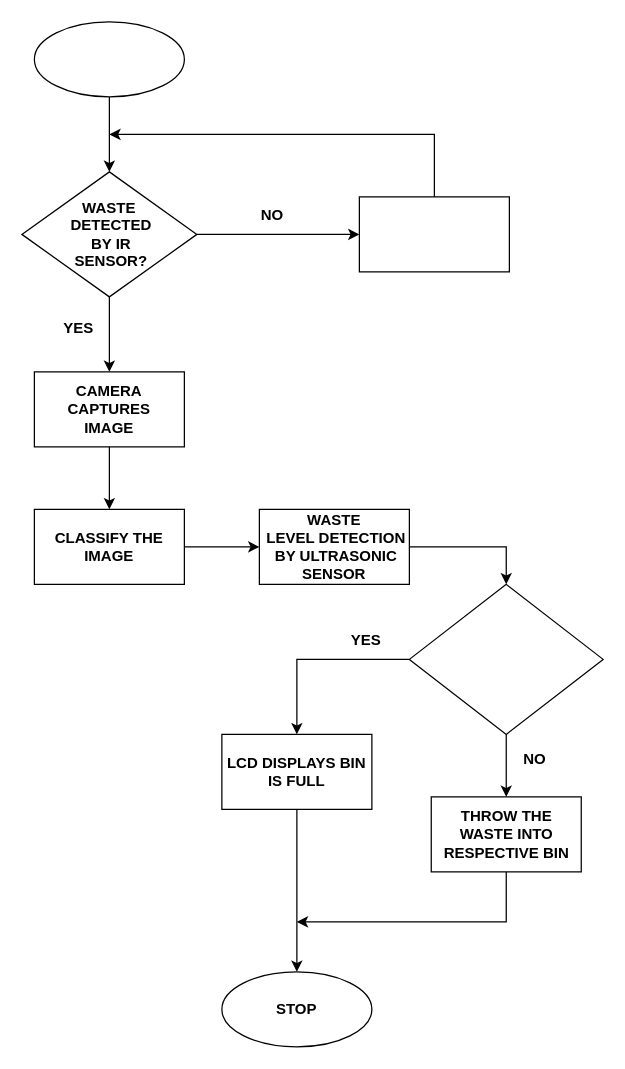
Image size: 625x1069. Some labels were removed from this diagram. Each missing label, with the centre of its shape:
"IS THE CONTAINER FULL?" belongs at point 505,658.
"START" belongs at point 108,59.
"SYSTEM IS IDLE" belongs at point 433,234.
